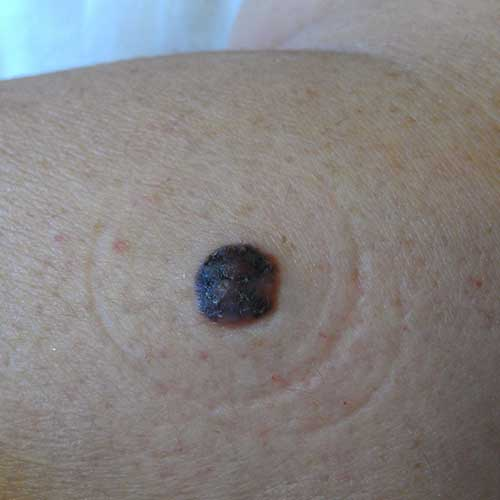melanoma: (106, 168, 352, 375)
